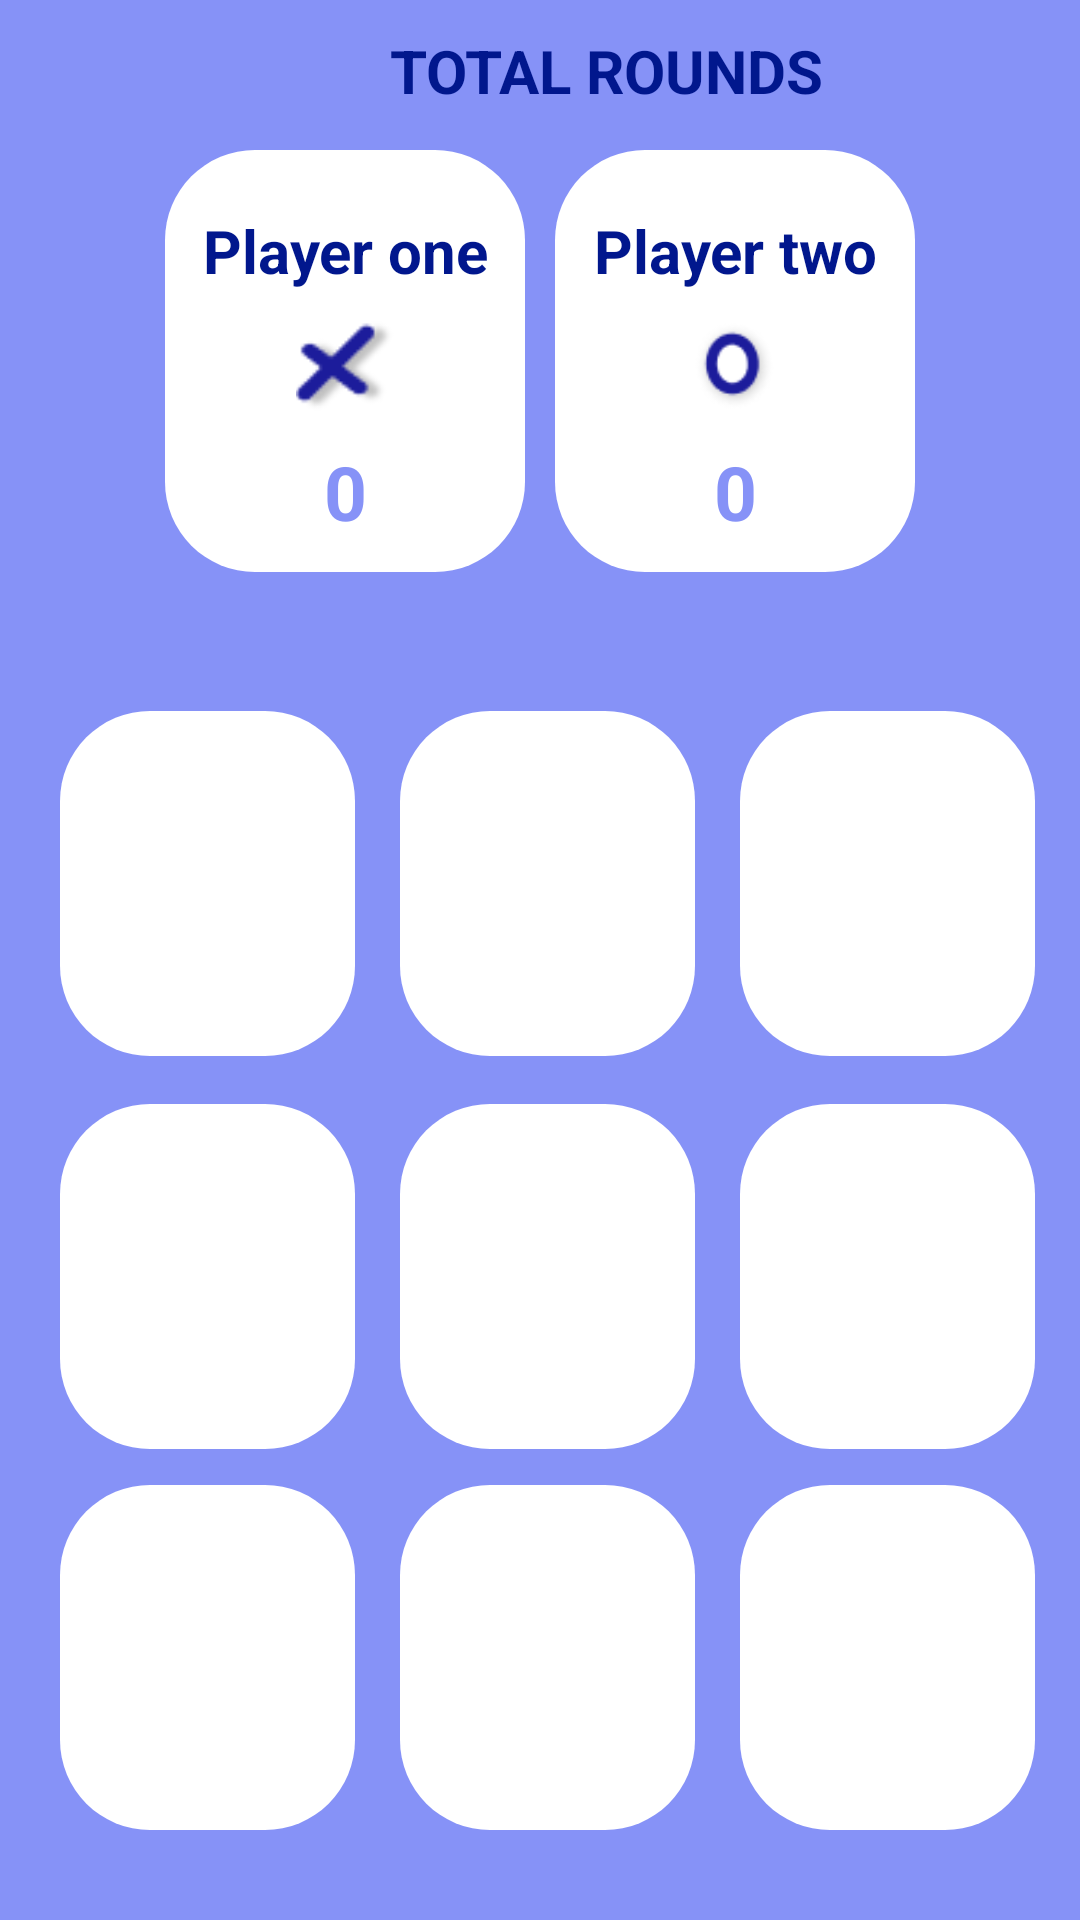

Where icons sit on this 1080×1920 app screen, as [x1=x1, y1=y1, x2=x2, y2=y2]:
cross: [x1=296, y1=323, x2=386, y2=403]
zero: [x1=704, y1=331, x2=762, y2=397]
